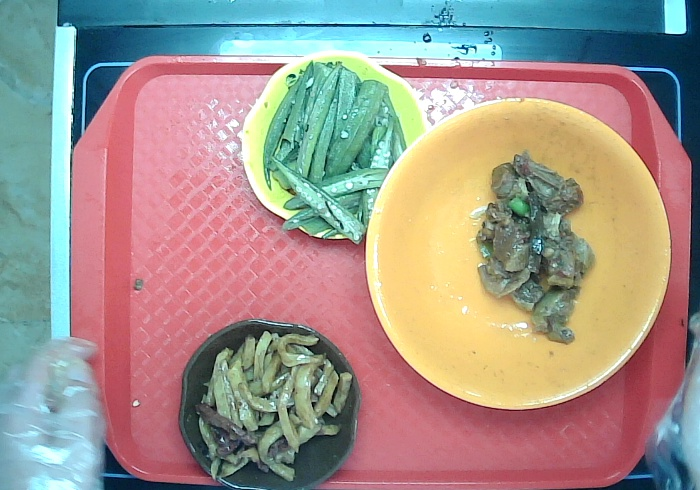YKMZ-Huang_Se_Ao_Bian_Wan: (233, 40, 438, 250)
YKMZ-Ju_Se_Tang_Wan: (359, 88, 680, 418)
YKMZ-Ka_Fei_Ao_Bian_Wan: (163, 308, 369, 490)
